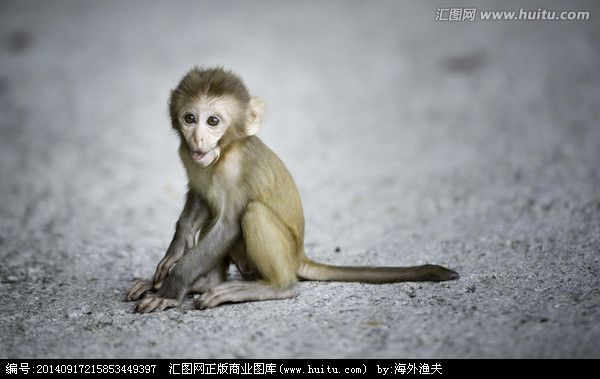monkey: (144, 53, 459, 310)
